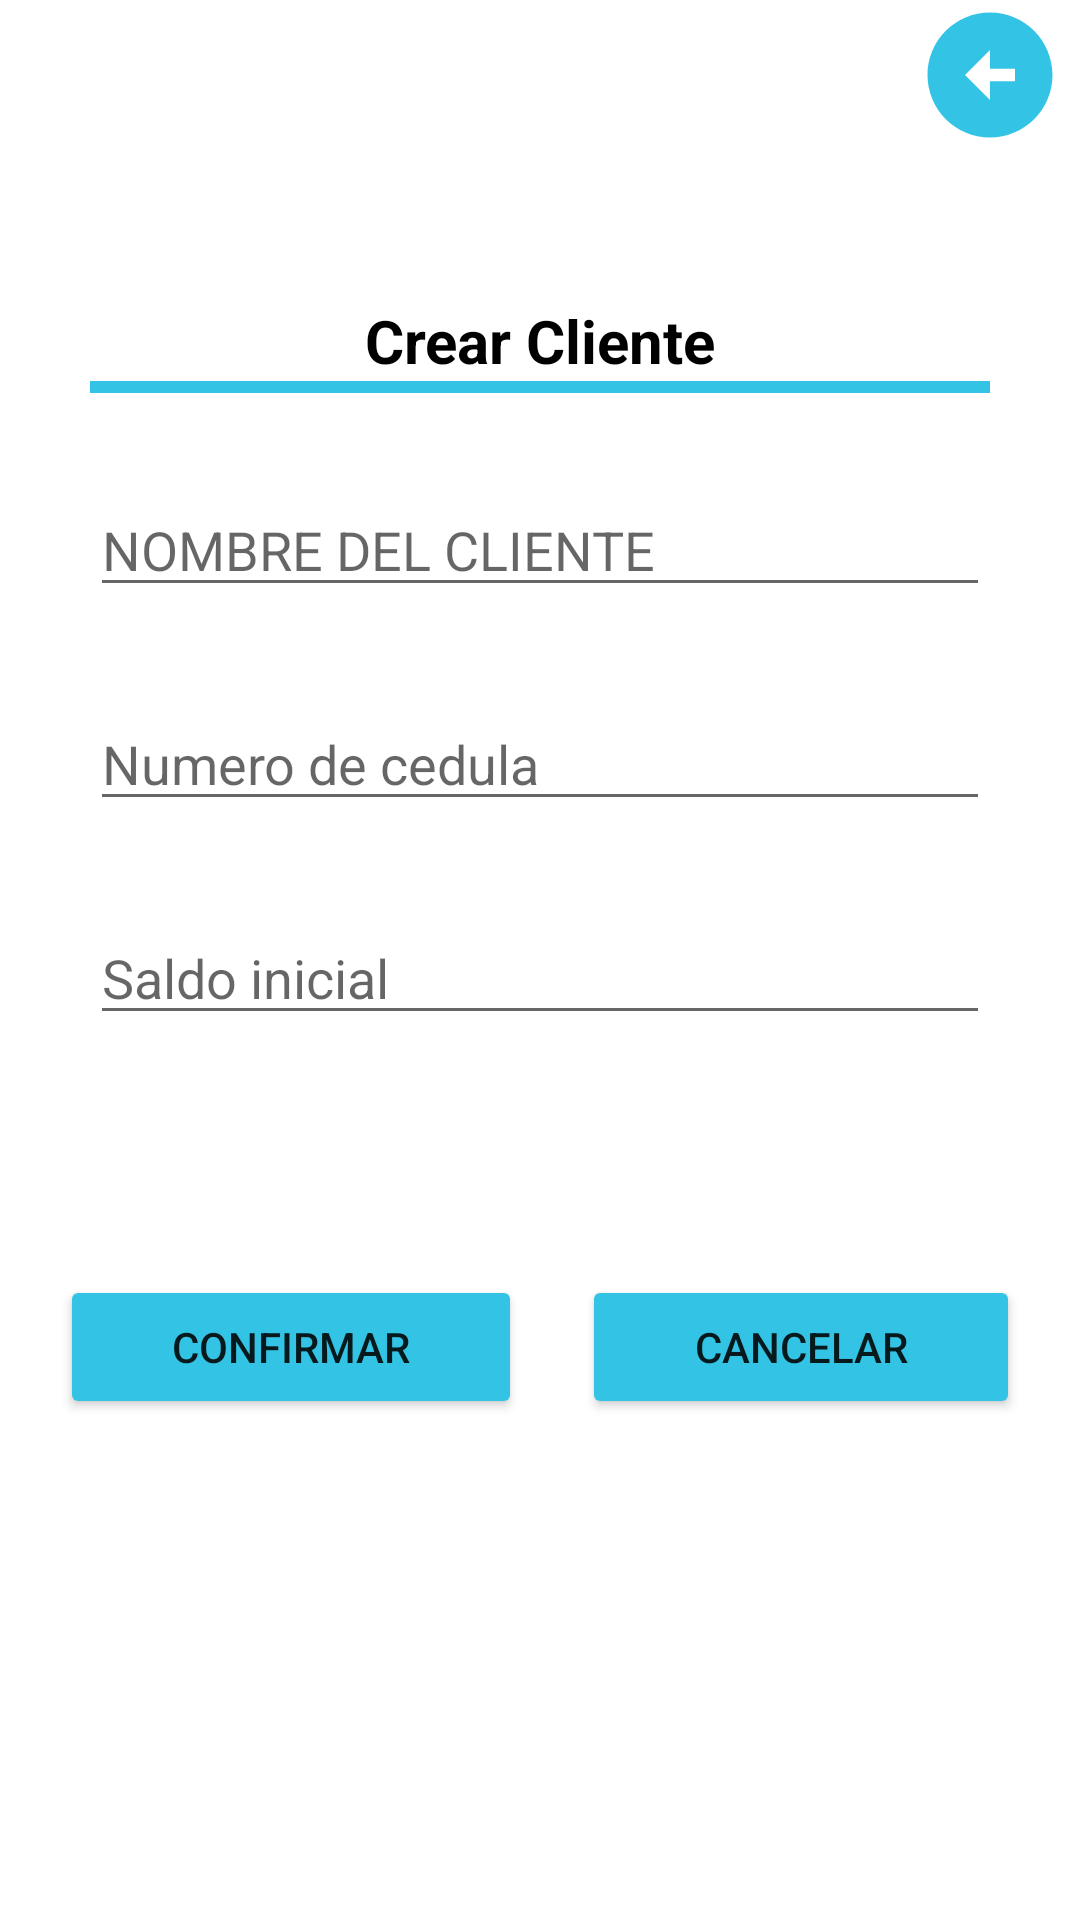

Point at icon controls on the screen. Image size 1080x1920, points as (x,y).
arrow circle left: (990,75)
